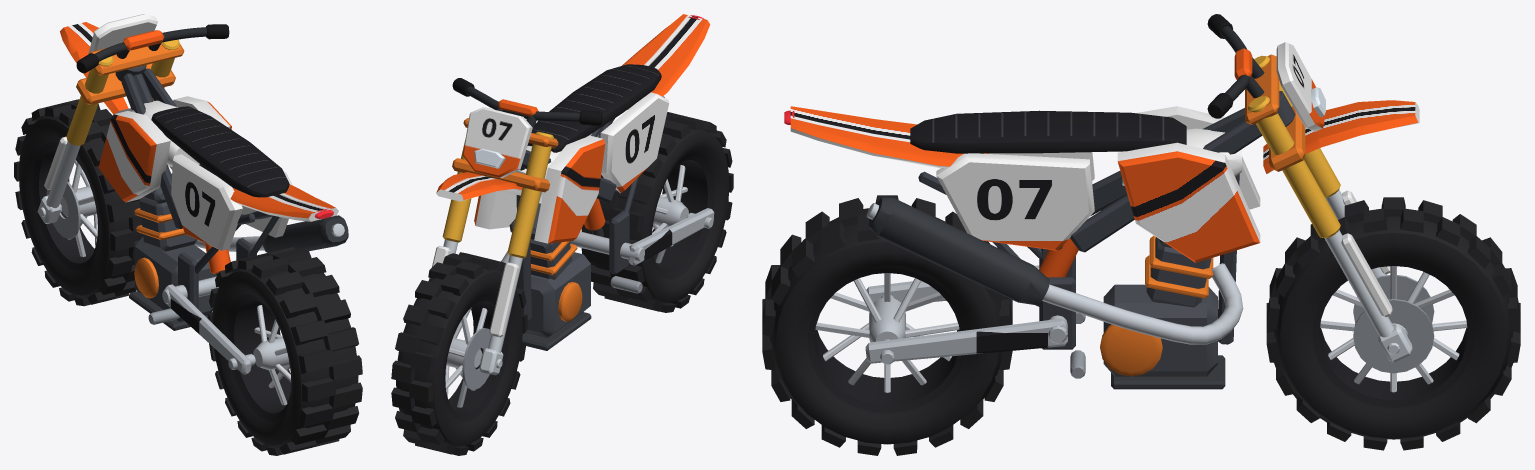
File: MotorcycleTag_DirtBike.obj
3 views of the same model, side by side, from view 1: azimuth 30°, elevation 25°; view 2: azimuth 150°, elevation 25°; view 3: azimuth 270°, elevation 25° (orthographic). The views are drawn at different scales.
Visible parts, largest first — view 1: RearWheel, FrontWheel, Bodywork, Seat, Fork, Frame, Engine, Swingarm, Exhaust, Handlebars, FrontPlate, FrontFender; view 2: FrontWheel, RearWheel, Bodywork, Fork, Engine, Seat, Frame, FrontPlate, Swingarm, Handlebars, FrontFender, Headlight; view 3: FrontWheel, RearWheel, Bodywork, Exhaust, Fork, Engine, Seat, Frame, Swingarm, FrontFender, Handlebars, FrontPlate.
Boxes of the visible parts, x1,y1,x2,y2 form: RearWheel: (207,247,362,455); FrontWheel: (14,99,143,306); Bodywork: (98,96,338,250); Seat: (151,106,289,197); Fork: (37,39,184,223); Frame: (115,65,279,330); Engine: (134,173,216,321); Swingarm: (162,243,255,374); Exhaust: (194,215,348,252); Handlebars: (76,24,229,73); FrontPlate: (88,14,157,54); FrontFender: (60,22,153,114); FrontWheel: (391,252,527,455); RearWheel: (581,112,733,312); Bodywork: (474,14,710,243); Fork: (429,118,558,375); Engine: (509,203,590,337); Seat: (527,64,661,152); Frame: (516,96,664,350); FrontPlate: (462,107,532,178); Swingarm: (570,198,714,265); Handlebars: (452,78,602,132); FrontFender: (436,172,522,201); Headlight: (474,148,505,168); FrontWheel: (1266,197,1520,450); RearWheel: (762,195,1012,455); Bodywork: (790,106,1260,262); Exhaust: (866,197,1243,344); Fork: (1245,54,1412,362); Engine: (1100,235,1217,376); Seat: (910,110,1186,153); Frame: (918,91,1295,389); Swingarm: (865,238,1078,364); FrontFender: (1263,100,1419,173); Handlebars: (1207,14,1264,118); FrontPlate: (1276,42,1324,131).
Size of the model in its own units: 2.38 by 4.62 by 8.24.
Materials: 1 (1 with a texture image).
